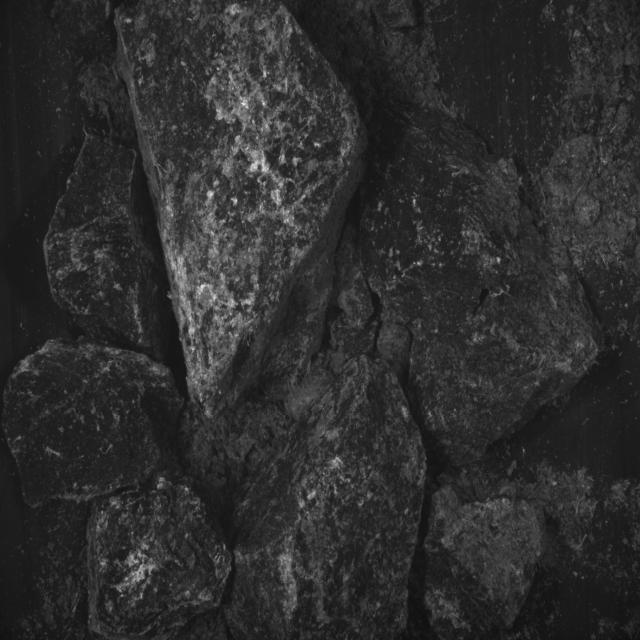Stones: (116, 3, 365, 417), (361, 109, 602, 465), (227, 357, 426, 640), (4, 341, 184, 507), (45, 135, 172, 363), (89, 479, 232, 639), (425, 487, 545, 640), (331, 226, 379, 370)
